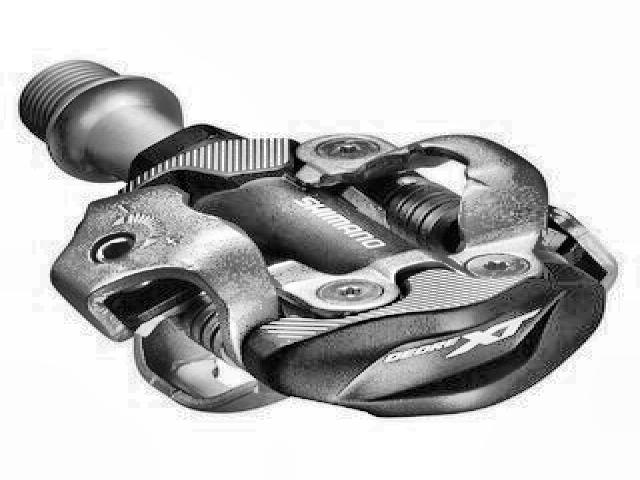pedal: (15, 57, 617, 423)
